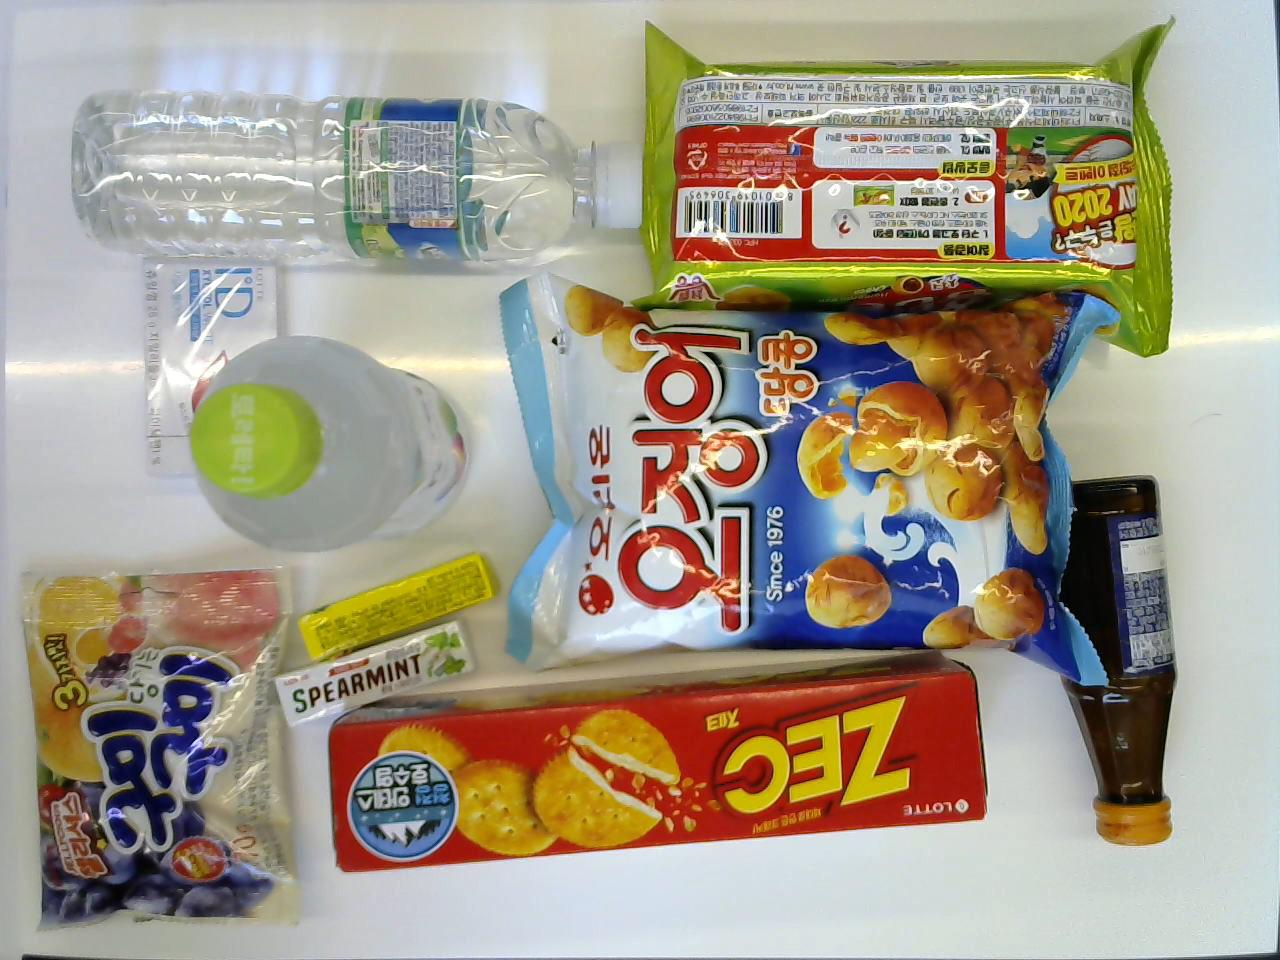ID_gum: (138, 248, 288, 489)
gumi_gumi: (12, 557, 296, 939)
homerunball: (636, 9, 1193, 361)
juicyfresh: (300, 554, 498, 659)
samdasu: (66, 80, 670, 264)
spearmint: (265, 618, 474, 727)
squid_peanut: (496, 269, 1111, 693)
toreta: (189, 328, 480, 556)
vita500: (1052, 473, 1181, 847)
zec: (330, 649, 992, 881)
